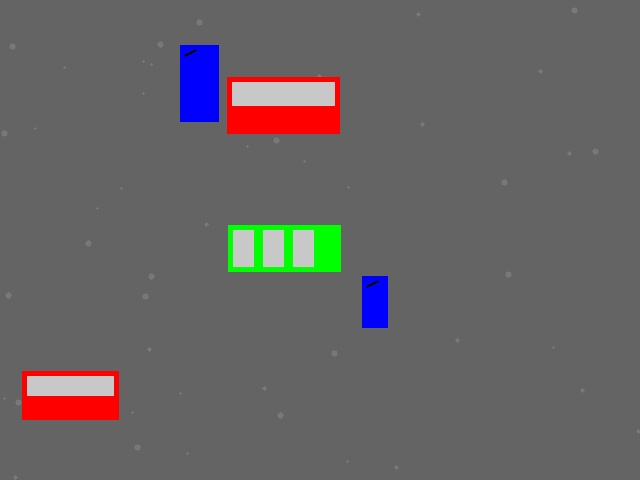bus: (228, 225, 340, 271)
car: (227, 77, 339, 133), (22, 371, 118, 419)
motorcycle: (180, 45, 218, 121), (362, 276, 387, 327)
